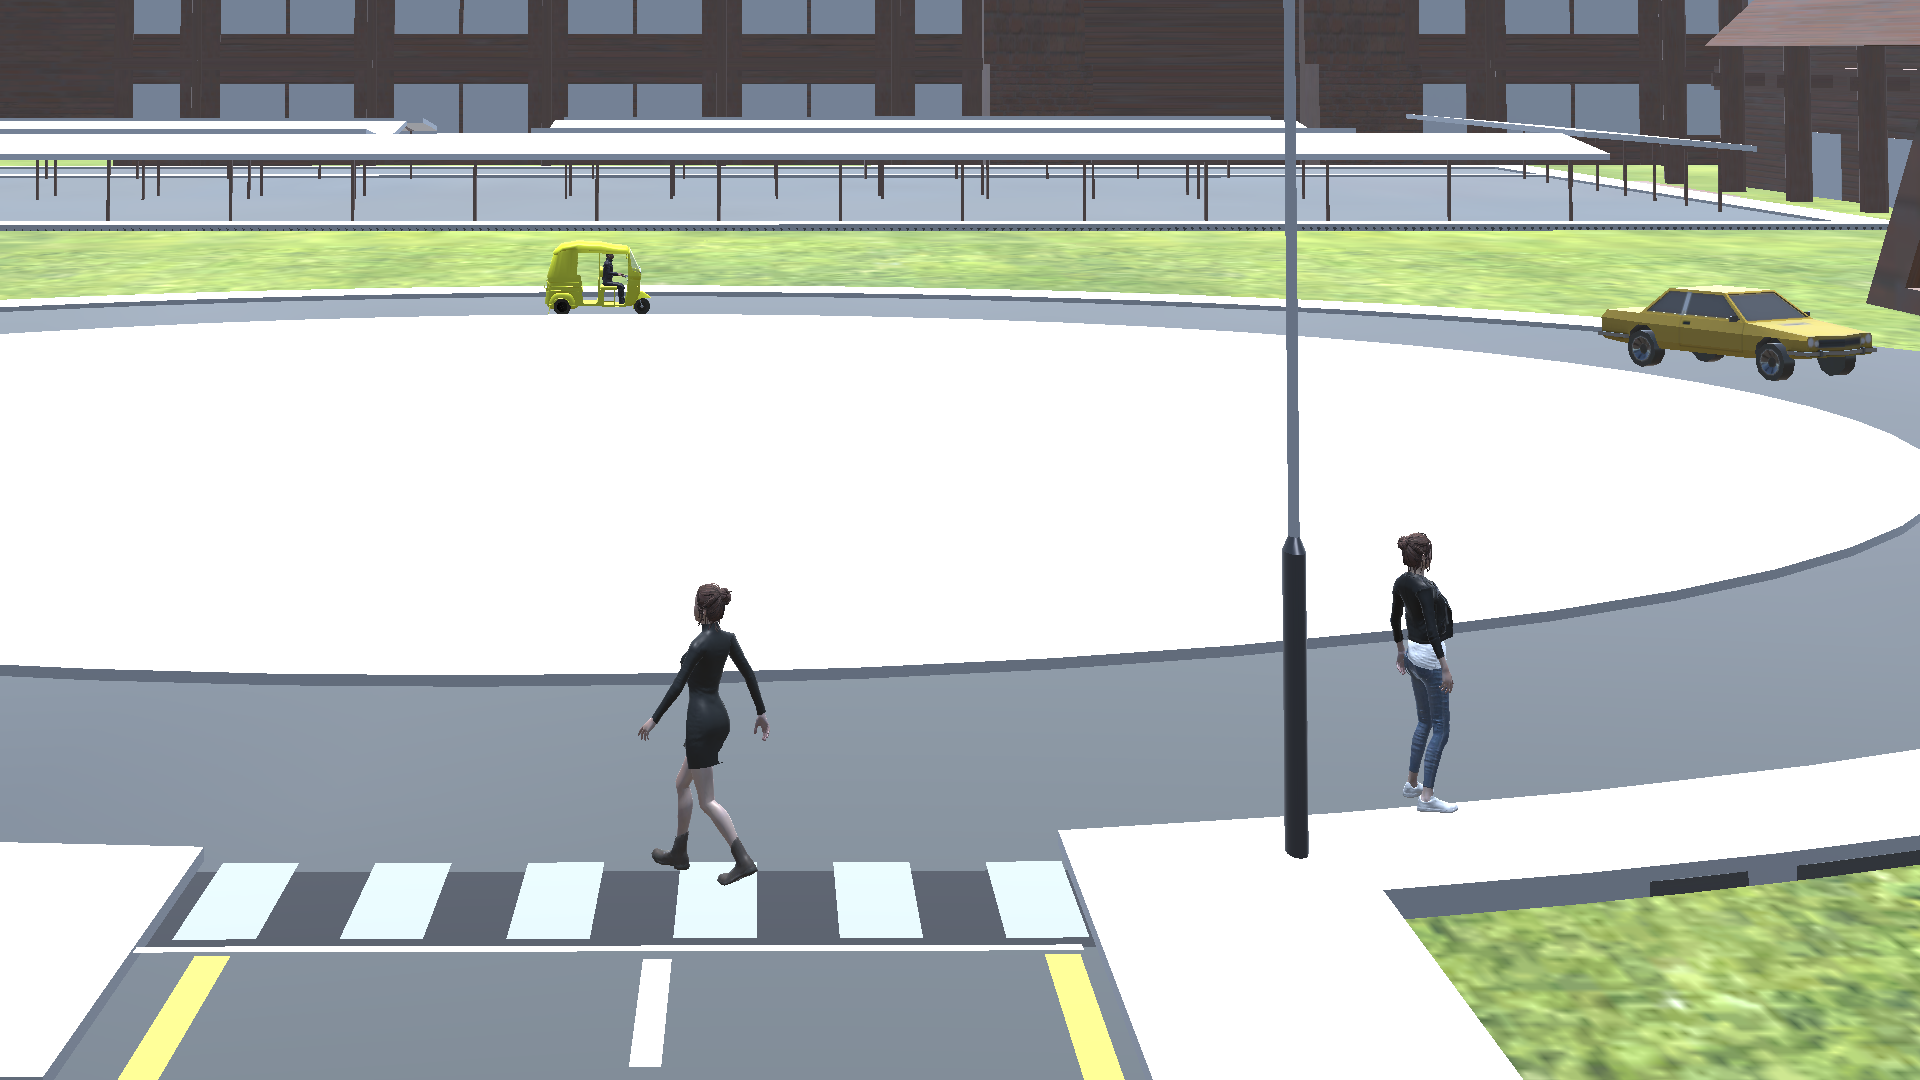pedestrian: (630, 582, 777, 897), (1387, 525, 1474, 822)
